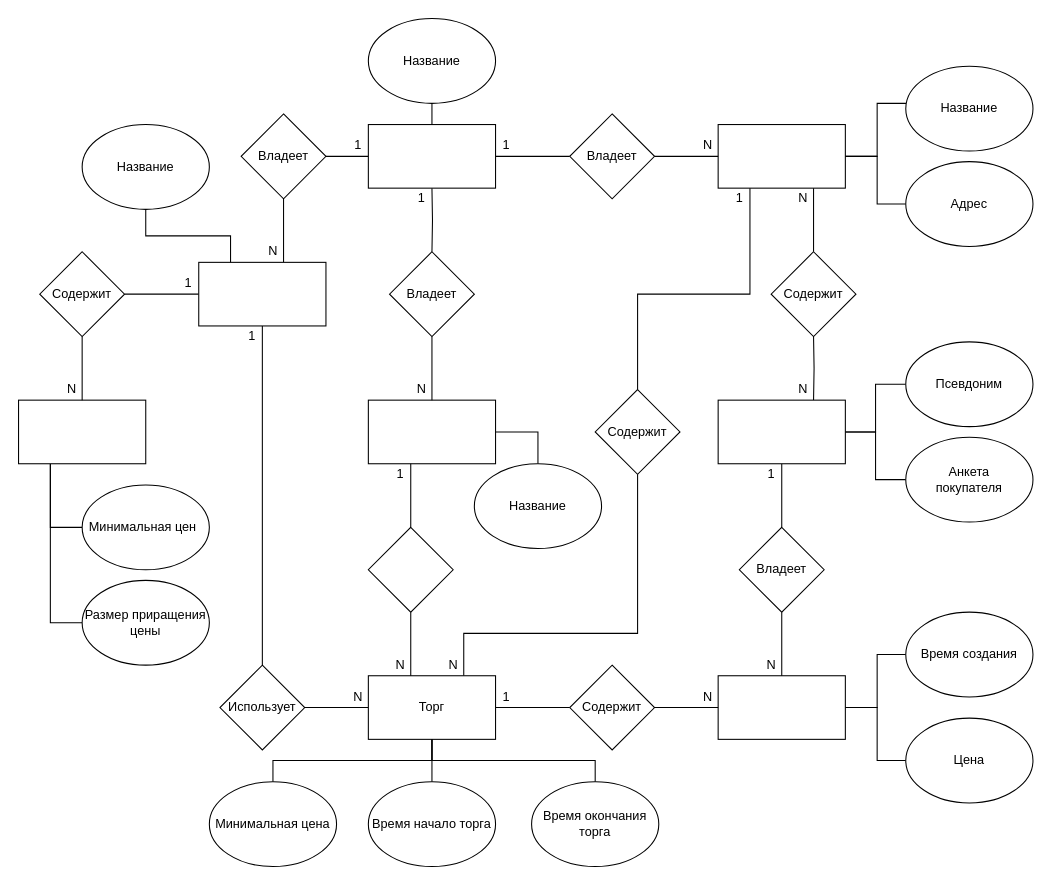
This 1052x885 diagram has some shape labels left out. Each missing label, with the centre of its shape:
Комната: the point at 781,155
Организатор: the point at 431,155
Покупатель: the point at 781,431
Предложение: the point at 781,707
Продает: the point at 410,569
Строка таблицы шагов ставок: the point at 81,431
Таблица шагов ставок: the point at 262,293
Товар: the point at 431,431
